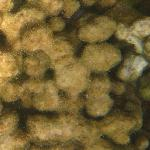dead: (3, 2, 141, 144)
